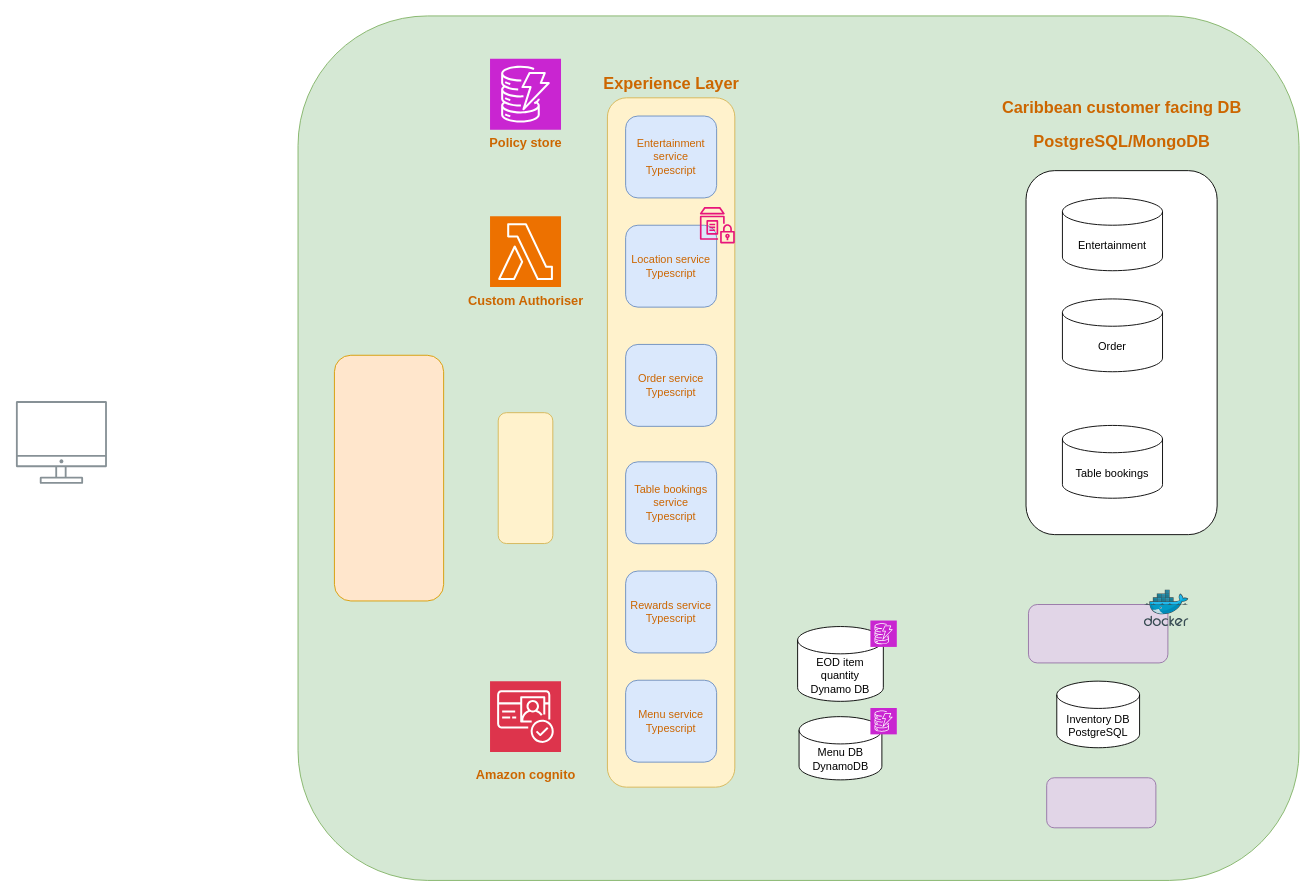
This 1315x896 diagram has some shape labels left out. The box of each missing label's shape, as (x1, y1, x2, y2) in pixels:
desktop: (15, 401, 106, 483)
Frontend SPA: (334, 354, 444, 601)
Gateway: (497, 412, 553, 544)
Innovatory service Springboot: (1028, 604, 1168, 663)
menu ETL Python: (1046, 777, 1156, 828)
